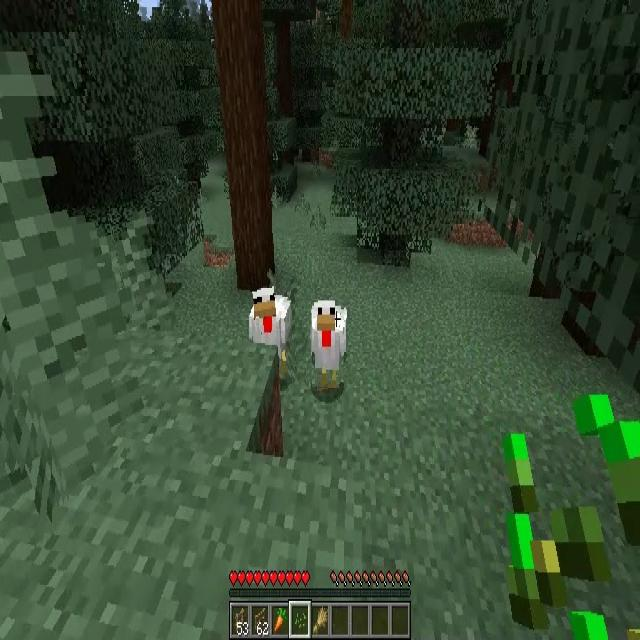duck: (249, 287, 292, 360), (312, 300, 344, 388)
